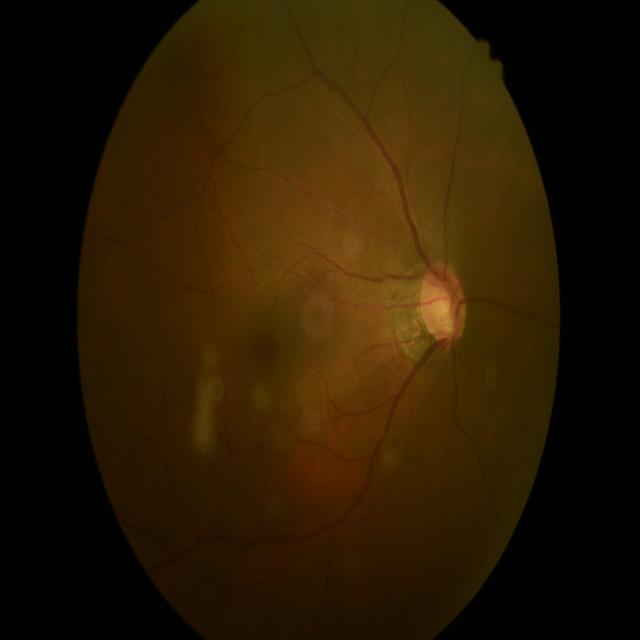cup: (424, 279, 456, 339)
disk: (419, 264, 468, 343)
